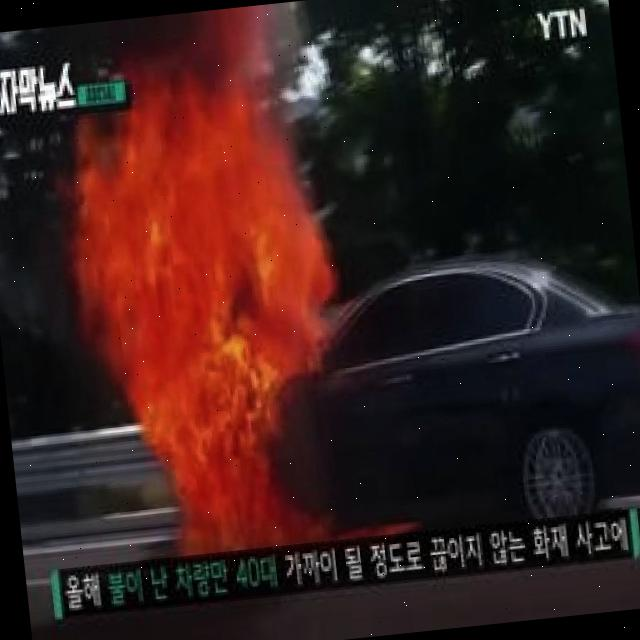fire: (84, 95, 314, 565)
